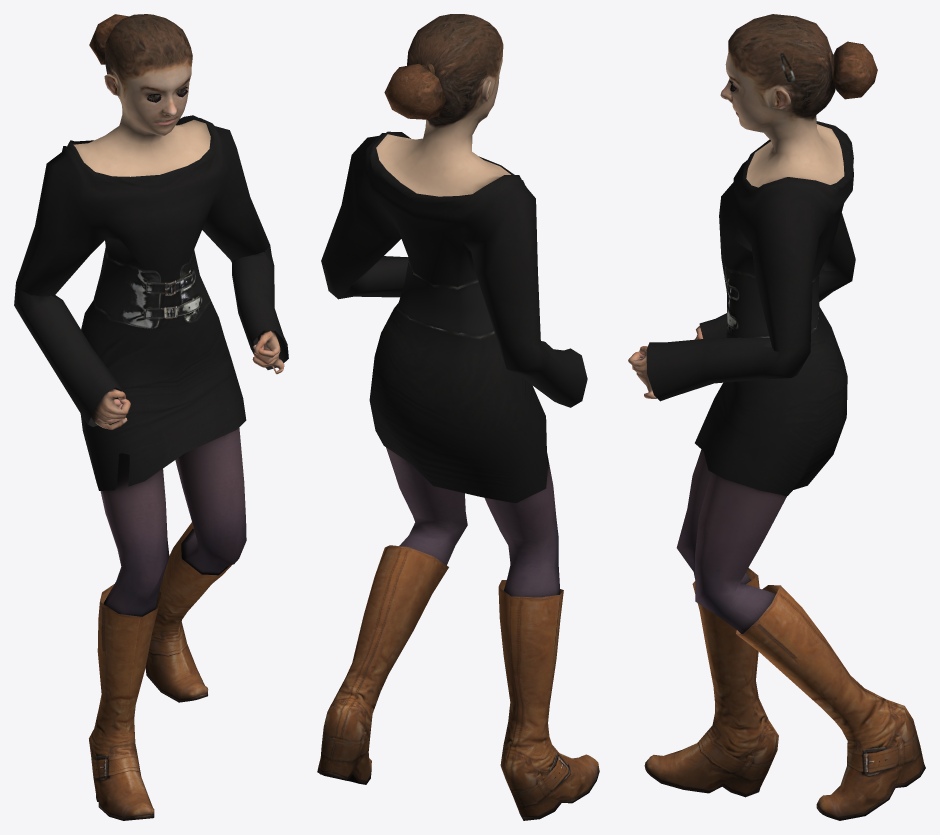
Rendered from Ana_Model_000013.obj.
The picture shows the model from 3 angles, left to right: view 1: azimuth 30°, elevation 25°; view 2: azimuth 150°, elevation 25°; view 3: azimuth 270°, elevation 25°; orthographic projection. The views are drawn at different scales.
Visible parts, largest first — view 1: Ana_Cube.004; view 2: Ana_Cube.004; view 3: Ana_Cube.004.
Boxes of the visible parts, x1,y1,x2,y2 form: Ana_Cube.004: (14, 14, 288, 820); Ana_Cube.004: (317, 14, 599, 820); Ana_Cube.004: (628, 14, 925, 820).
Bounding box in the file's own units: 0.6035 × 1.89 × 0.6368.
Materials: 1 (1 with a texture image).
